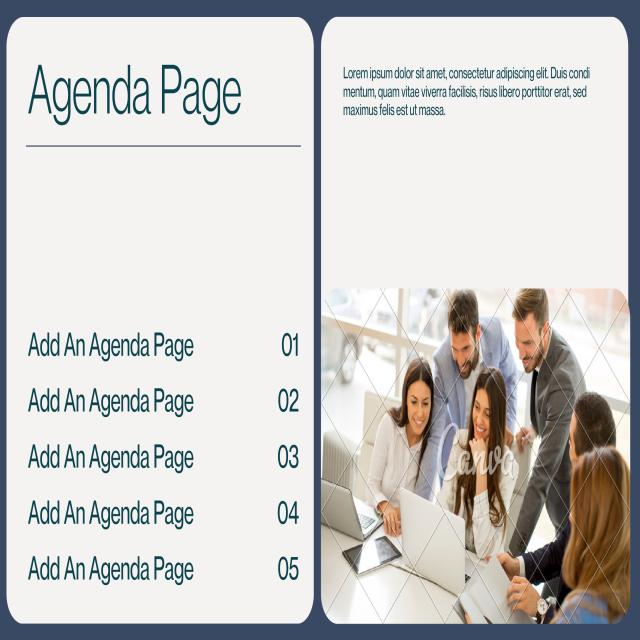image: (322, 286, 636, 623)
text: (26, 322, 308, 608), (338, 59, 601, 128)
title: (21, 54, 252, 137)
